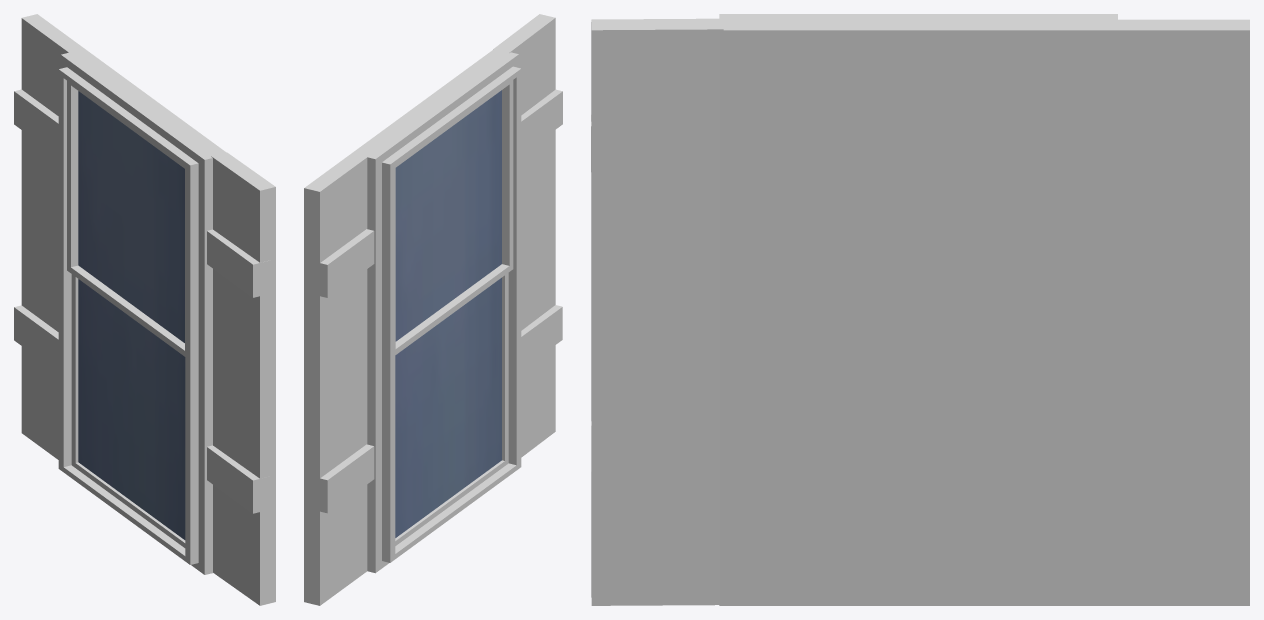
The model's file is shutter_window.ba33b646.gltf.
The picture shows the model from 3 angles, left to right: view 1: azimuth 30°, elevation 25°; view 2: azimuth 150°, elevation 25°; view 3: azimuth 270°, elevation 25°; orthographic projection. The views are drawn at different scales.
Parts seen in each view (by area): view 1: window_glass, Right_Side_Shutters, left_Side_Shutters, trims_inside, Middle_trims, Right_Side_Shutters_box, trims_outSide, Window_box; view 2: window_glass, left_Side_Shutters, Right_Side_Shutters, trims_inside, Middle_trims, Right_Side_Shutters_box, trims_outSide, Window_box; view 3: Window_box, left_Side_Shutters, Right_Side_Shutters.
Boxes of the visible parts, x1,y1,x2,y2 form: window_glass: [78, 91, 185, 539]; Right_Side_Shutters: [211, 152, 275, 605]; left_Side_Shutters: [21, 14, 84, 459]; trims_inside: [58, 67, 198, 564]; Middle_trims: [63, 78, 185, 547]; Right_Side_Shutters_box: [14, 89, 270, 513]; trims_outSide: [61, 55, 212, 574]; Window_box: [61, 49, 225, 159]; window_glass: [395, 90, 501, 537]; left_Side_Shutters: [304, 153, 367, 605]; Right_Side_Shutters: [493, 14, 555, 457]; trims_inside: [382, 66, 521, 562]; Middle_trims: [395, 77, 516, 545]; Right_Side_Shutters_box: [320, 89, 562, 513]; trims_outSide: [367, 54, 518, 573]; Window_box: [352, 49, 518, 159]; Window_box: [719, 14, 1117, 605]; left_Side_Shutters: [1118, 19, 1249, 605]; Right_Side_Shutters: [591, 18, 723, 605].
Bounding box in the file's own units: 0.4247 × 5.01 × 5.19.
6 materials, 1 textured.
